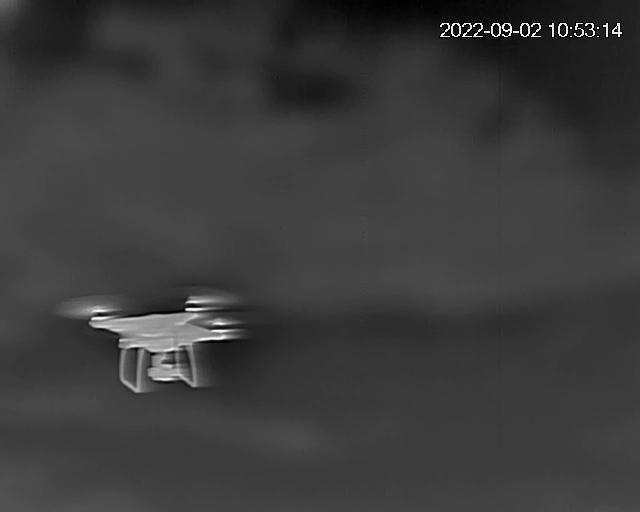DJI-Phantom: (59, 292, 255, 393)
